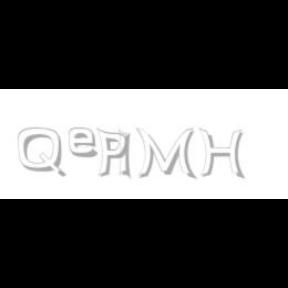H: (199, 128, 245, 180)
I: (119, 128, 132, 180)
M: (135, 128, 194, 180)
P: (96, 128, 128, 178)
Q: (18, 128, 64, 178)
e: (68, 128, 102, 158)
